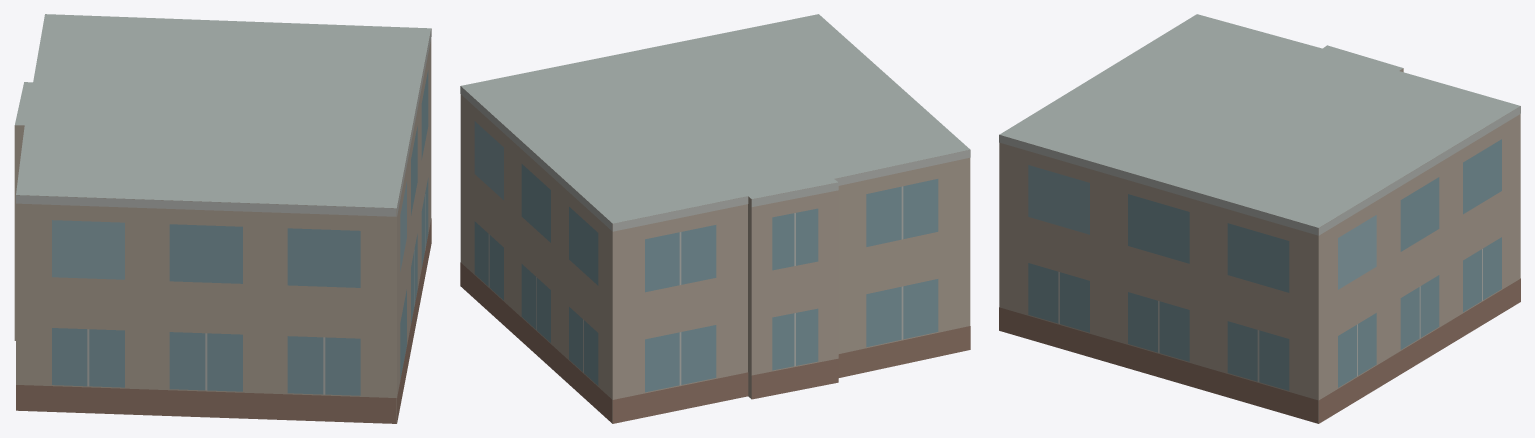
Rendered from survey-upis-32670195.glb.
3 renders of one model, left to right at view 1: azimuth 30°, elevation 25°; view 2: azimuth 150°, elevation 25°; view 3: azimuth 270°, elevation 25°, orthographic. The views are drawn at different scales.
Parts seen in each view (by area): view 1: survey-upis-32670195.tmp; view 2: survey-upis-32670195.tmp; view 3: survey-upis-32670195.tmp.
Boxes of the visible parts, x1,y1,x2,y2 form: survey-upis-32670195.tmp: (14,14,431,423); survey-upis-32670195.tmp: (460,14,970,423); survey-upis-32670195.tmp: (999,14,1520,423).
Size of the model in its own units: 14.29 by 6.1 by 14.72.
